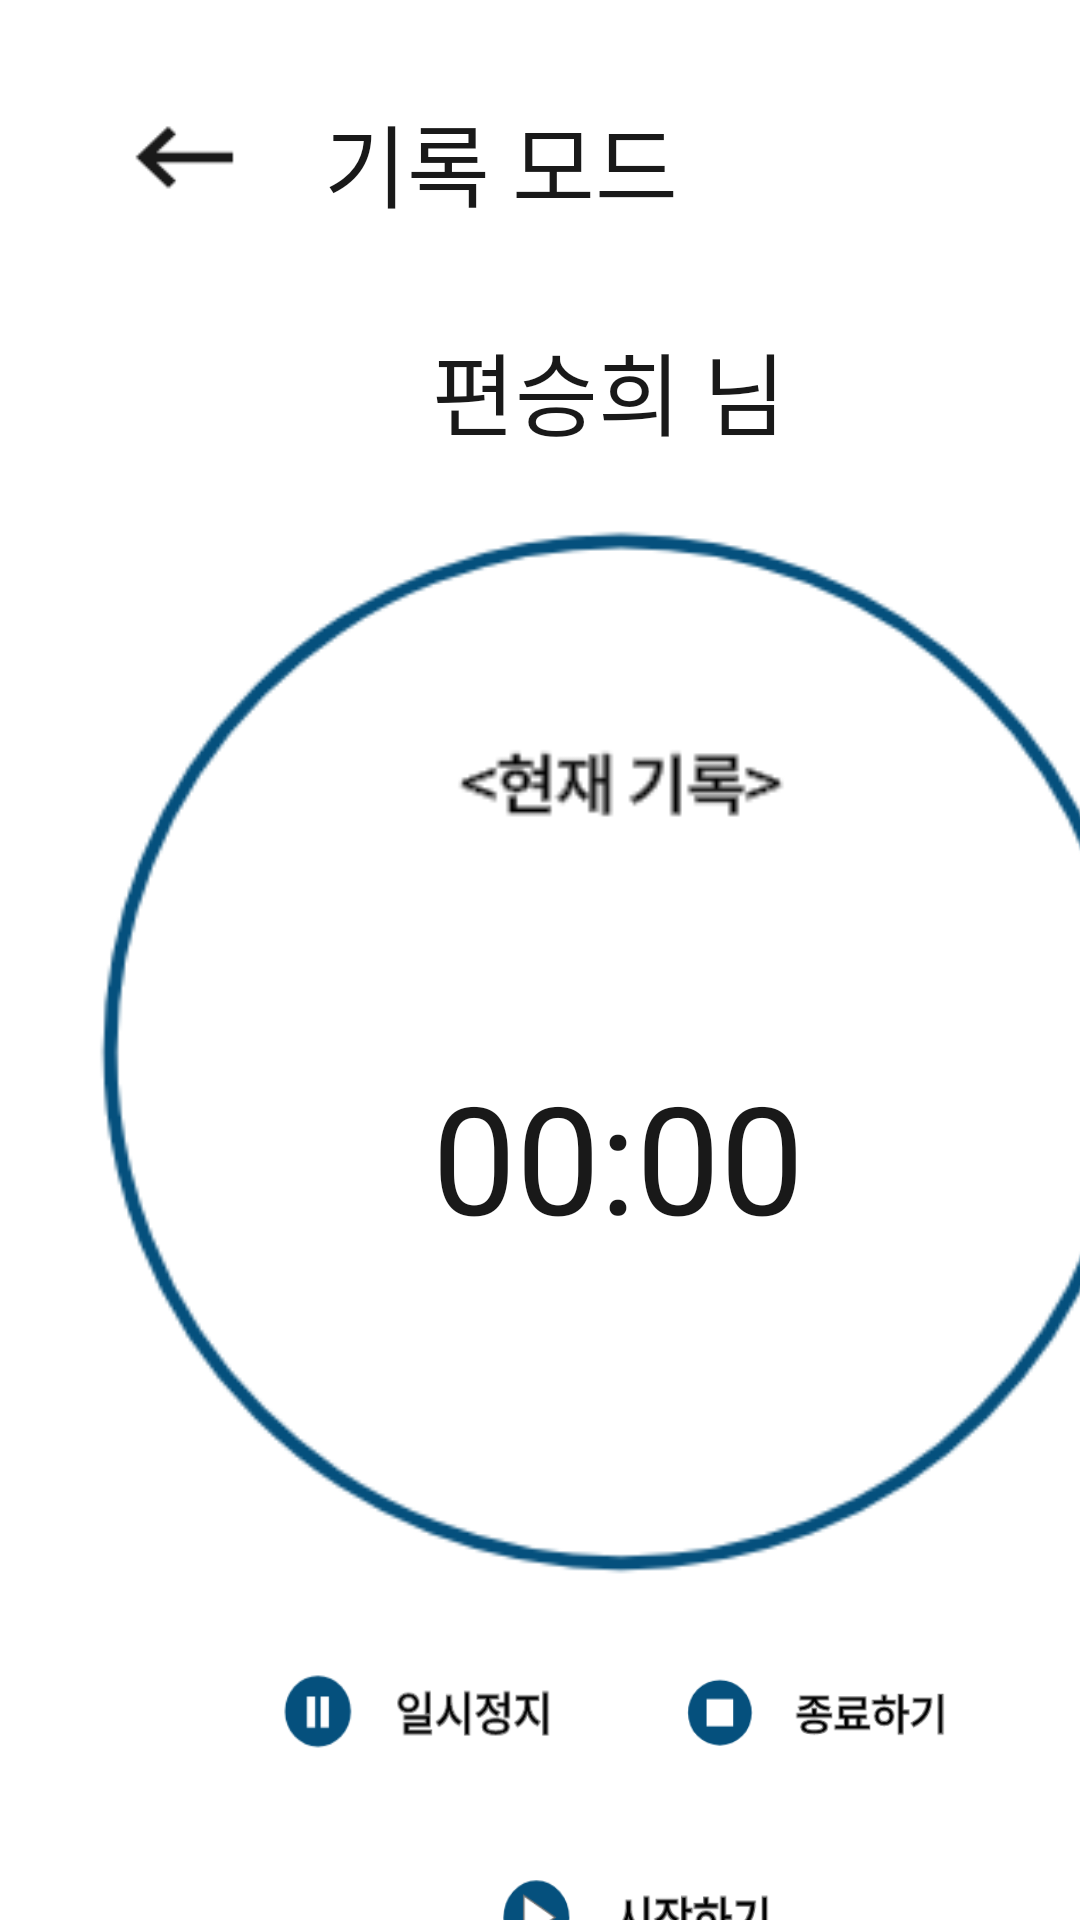

Icon bounding boxes for this 1080px×1920px phone screenshot, format (x1, y1, x2, y2):
pre: (135, 126, 234, 189)
